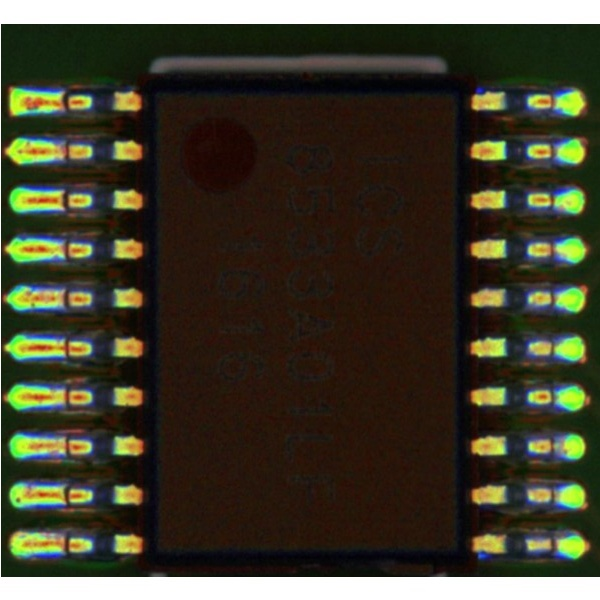Bad_podu: (44, 537, 72, 552), (47, 291, 72, 306), (45, 439, 73, 452), (53, 143, 74, 159), (49, 488, 73, 502), (49, 193, 72, 207), (55, 243, 75, 259), (52, 96, 73, 111), (57, 340, 73, 358), (58, 389, 73, 406)
